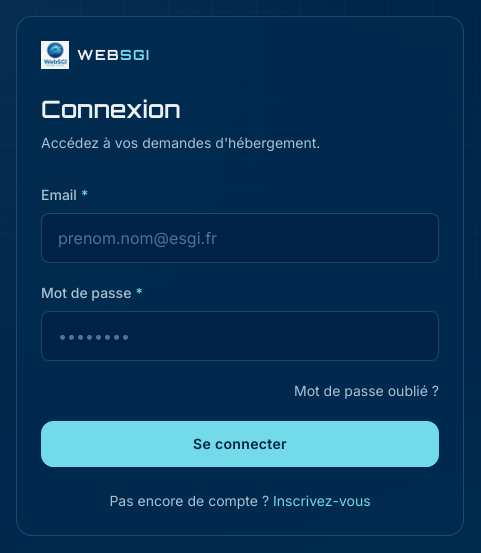
Test case: Login › should disable the submit button while the login is in progress
The width and height of the screenshot is (481, 553).
Type "alice@example.com" into the field labelled "Email*" at (240, 238), box [41,213,439,263]
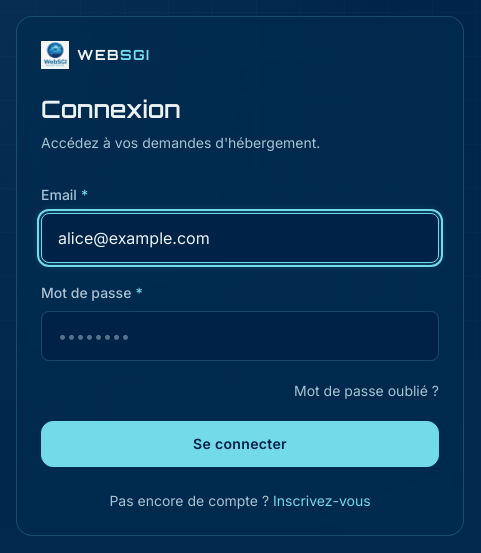
Type "motdepasse123" into the password field labelled "Mot de passe*" at (240, 336), box [41,311,439,361]
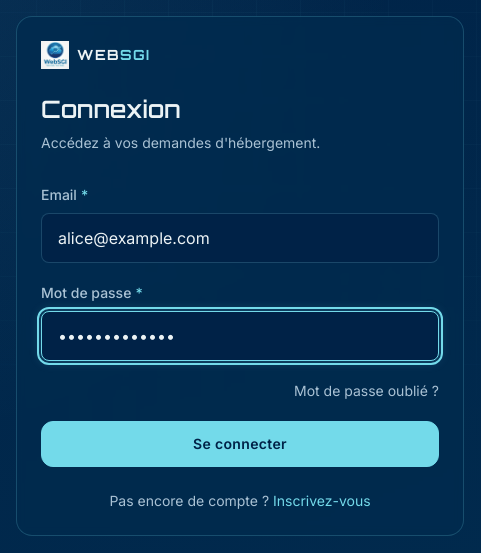
Click the button "Se connecter" at (240, 444), box [41,421,439,467]
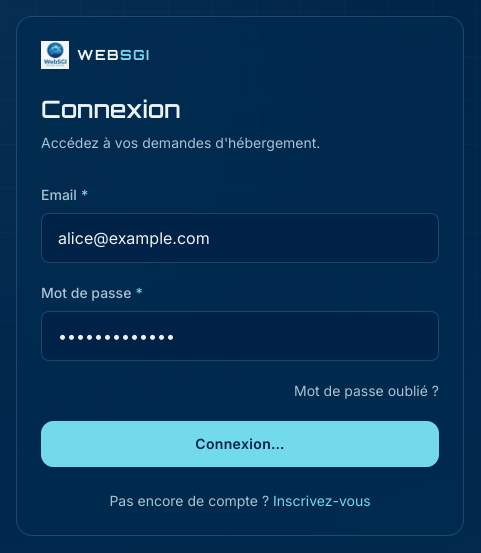
Expected: the button "Connexion…" is disabled, [41,421,439,467]
